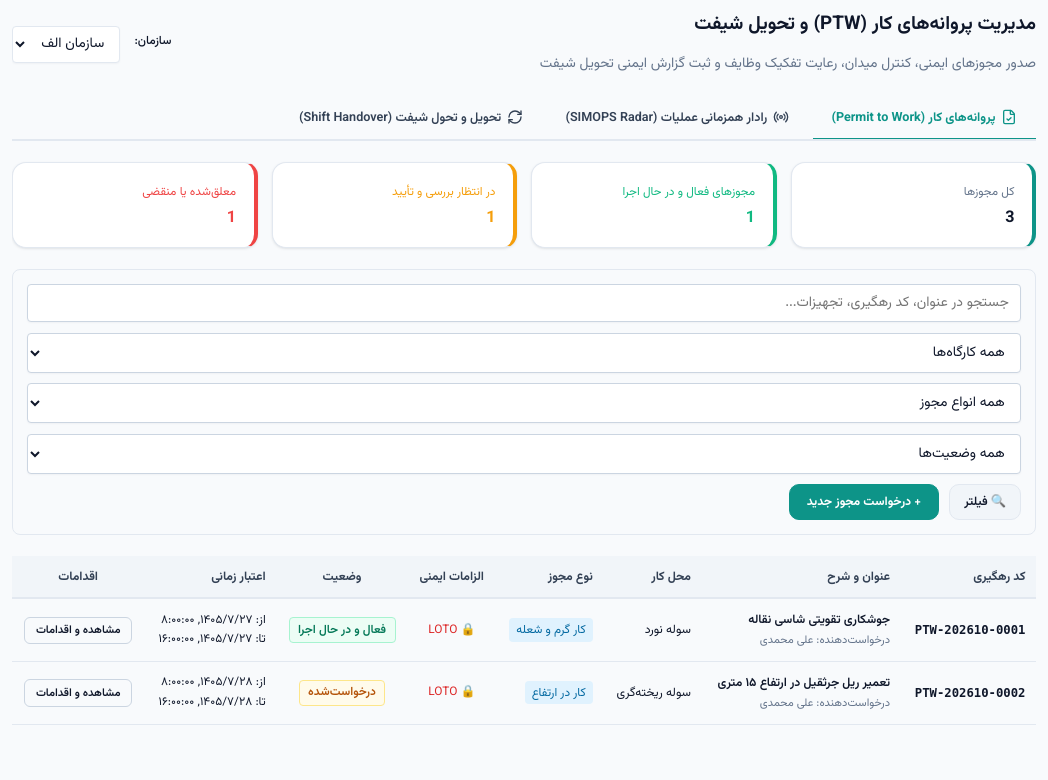
Scenario: PermitsPage › shows acknowledgement only when the server marks the handover acknowledgeable
Click the button "تحویل و تحول شیفت (Shift Handover)": (411, 119) [280,97,542,141]
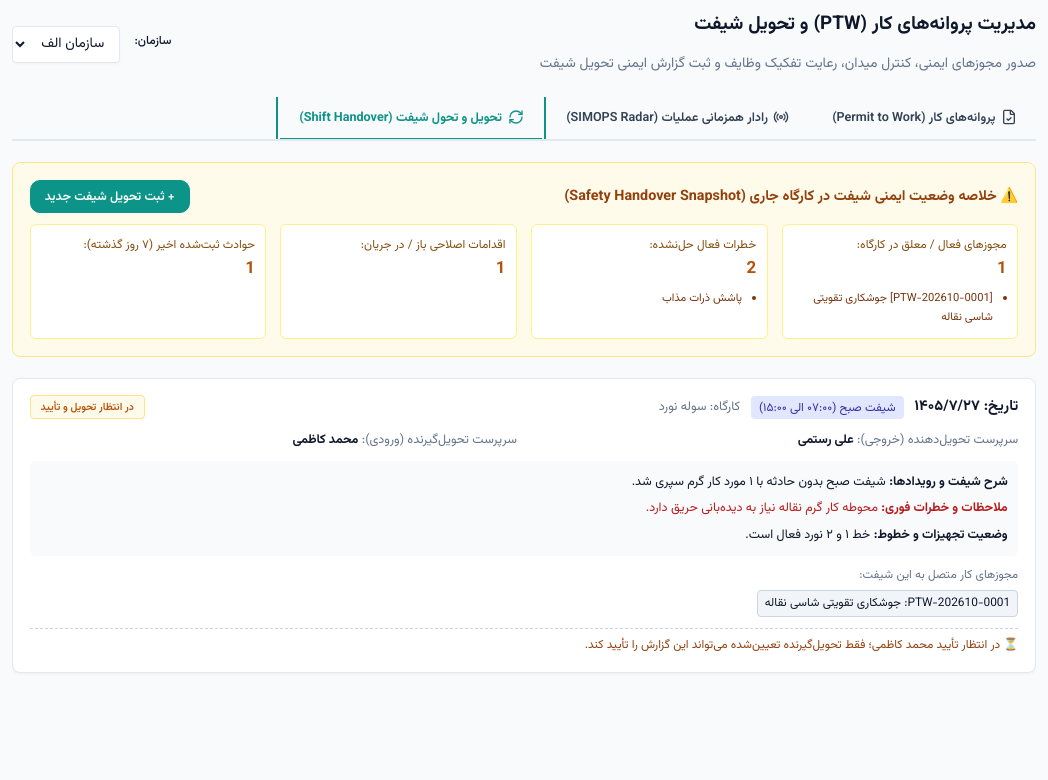
expect the text "در انتظار تأیید محمد کاظمی" is shown: met, box [30,628,1018,656]
